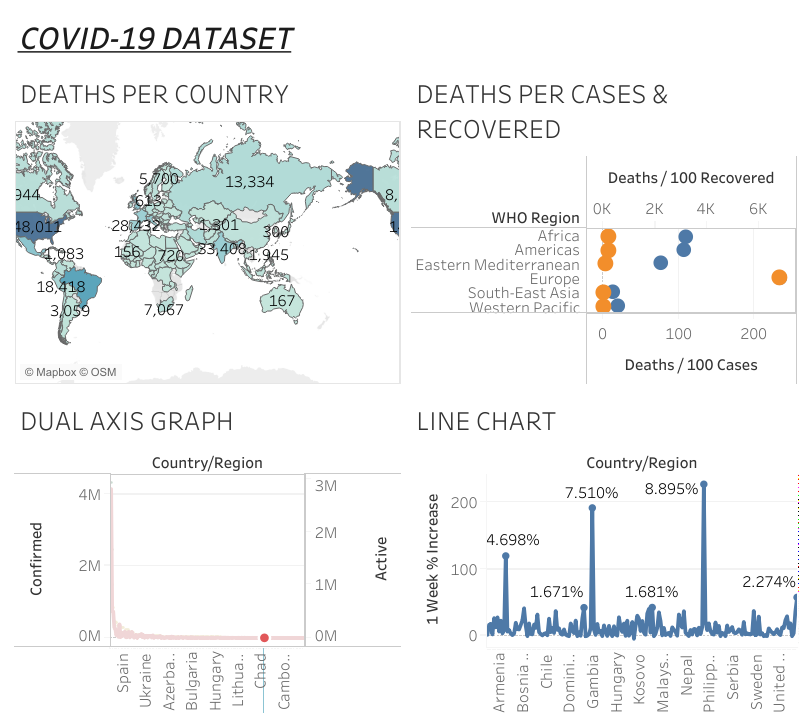

The page's visual inventory and layout, read from the dashboard file:
{"tool":"tableau","page":{"name":"Dashboard 1","canvas":[1000,1000],"units":"permille","ordinal":0},"visuals":[{"type":"title","box":[12.3,9.4,975.4,57.5]},{"type":"worksheet","title":"Sheet 1","mark":"Automatic","box":[12.3,66.9,487.7,461.9]},{"type":"worksheet","title":"Sheet 3","mark":"Automatic","rows":["WHO Region"],"cols":["Deaths / 100 Cases","Deaths / 100 Recovered"],"box":[500,66.9,487.7,461.9]},{"type":"worksheet","title":"Sheet 2","mark":"Circle","rows":["Confirmed","Active"],"cols":["Country/Region"],"box":[12.3,528.8,487.7,461.9]},{"type":"worksheet","title":"Sheet 4","mark":"Line","rows":["1 week % increase"],"cols":["Country/Region"],"box":[500,528.8,487.7,461.9]}]}

Visuals, with their boxes on the dashboard's canvas, which has no fixed pixel size, in thousandths of its width and height (x1, y1, x2, y2). These are canvas units, not pixel positions in the 811x728 screenshot, which may show the page scaled, cropped or inside an application window:
title: left=12, top=9, right=988, bottom=67
"Sheet 1" worksheet: left=12, top=67, right=500, bottom=529
"Sheet 3" worksheet: left=500, top=67, right=988, bottom=529
"Sheet 2" worksheet (Circle marks): left=12, top=529, right=500, bottom=991
"Sheet 4" worksheet (Line marks): left=500, top=529, right=988, bottom=991
